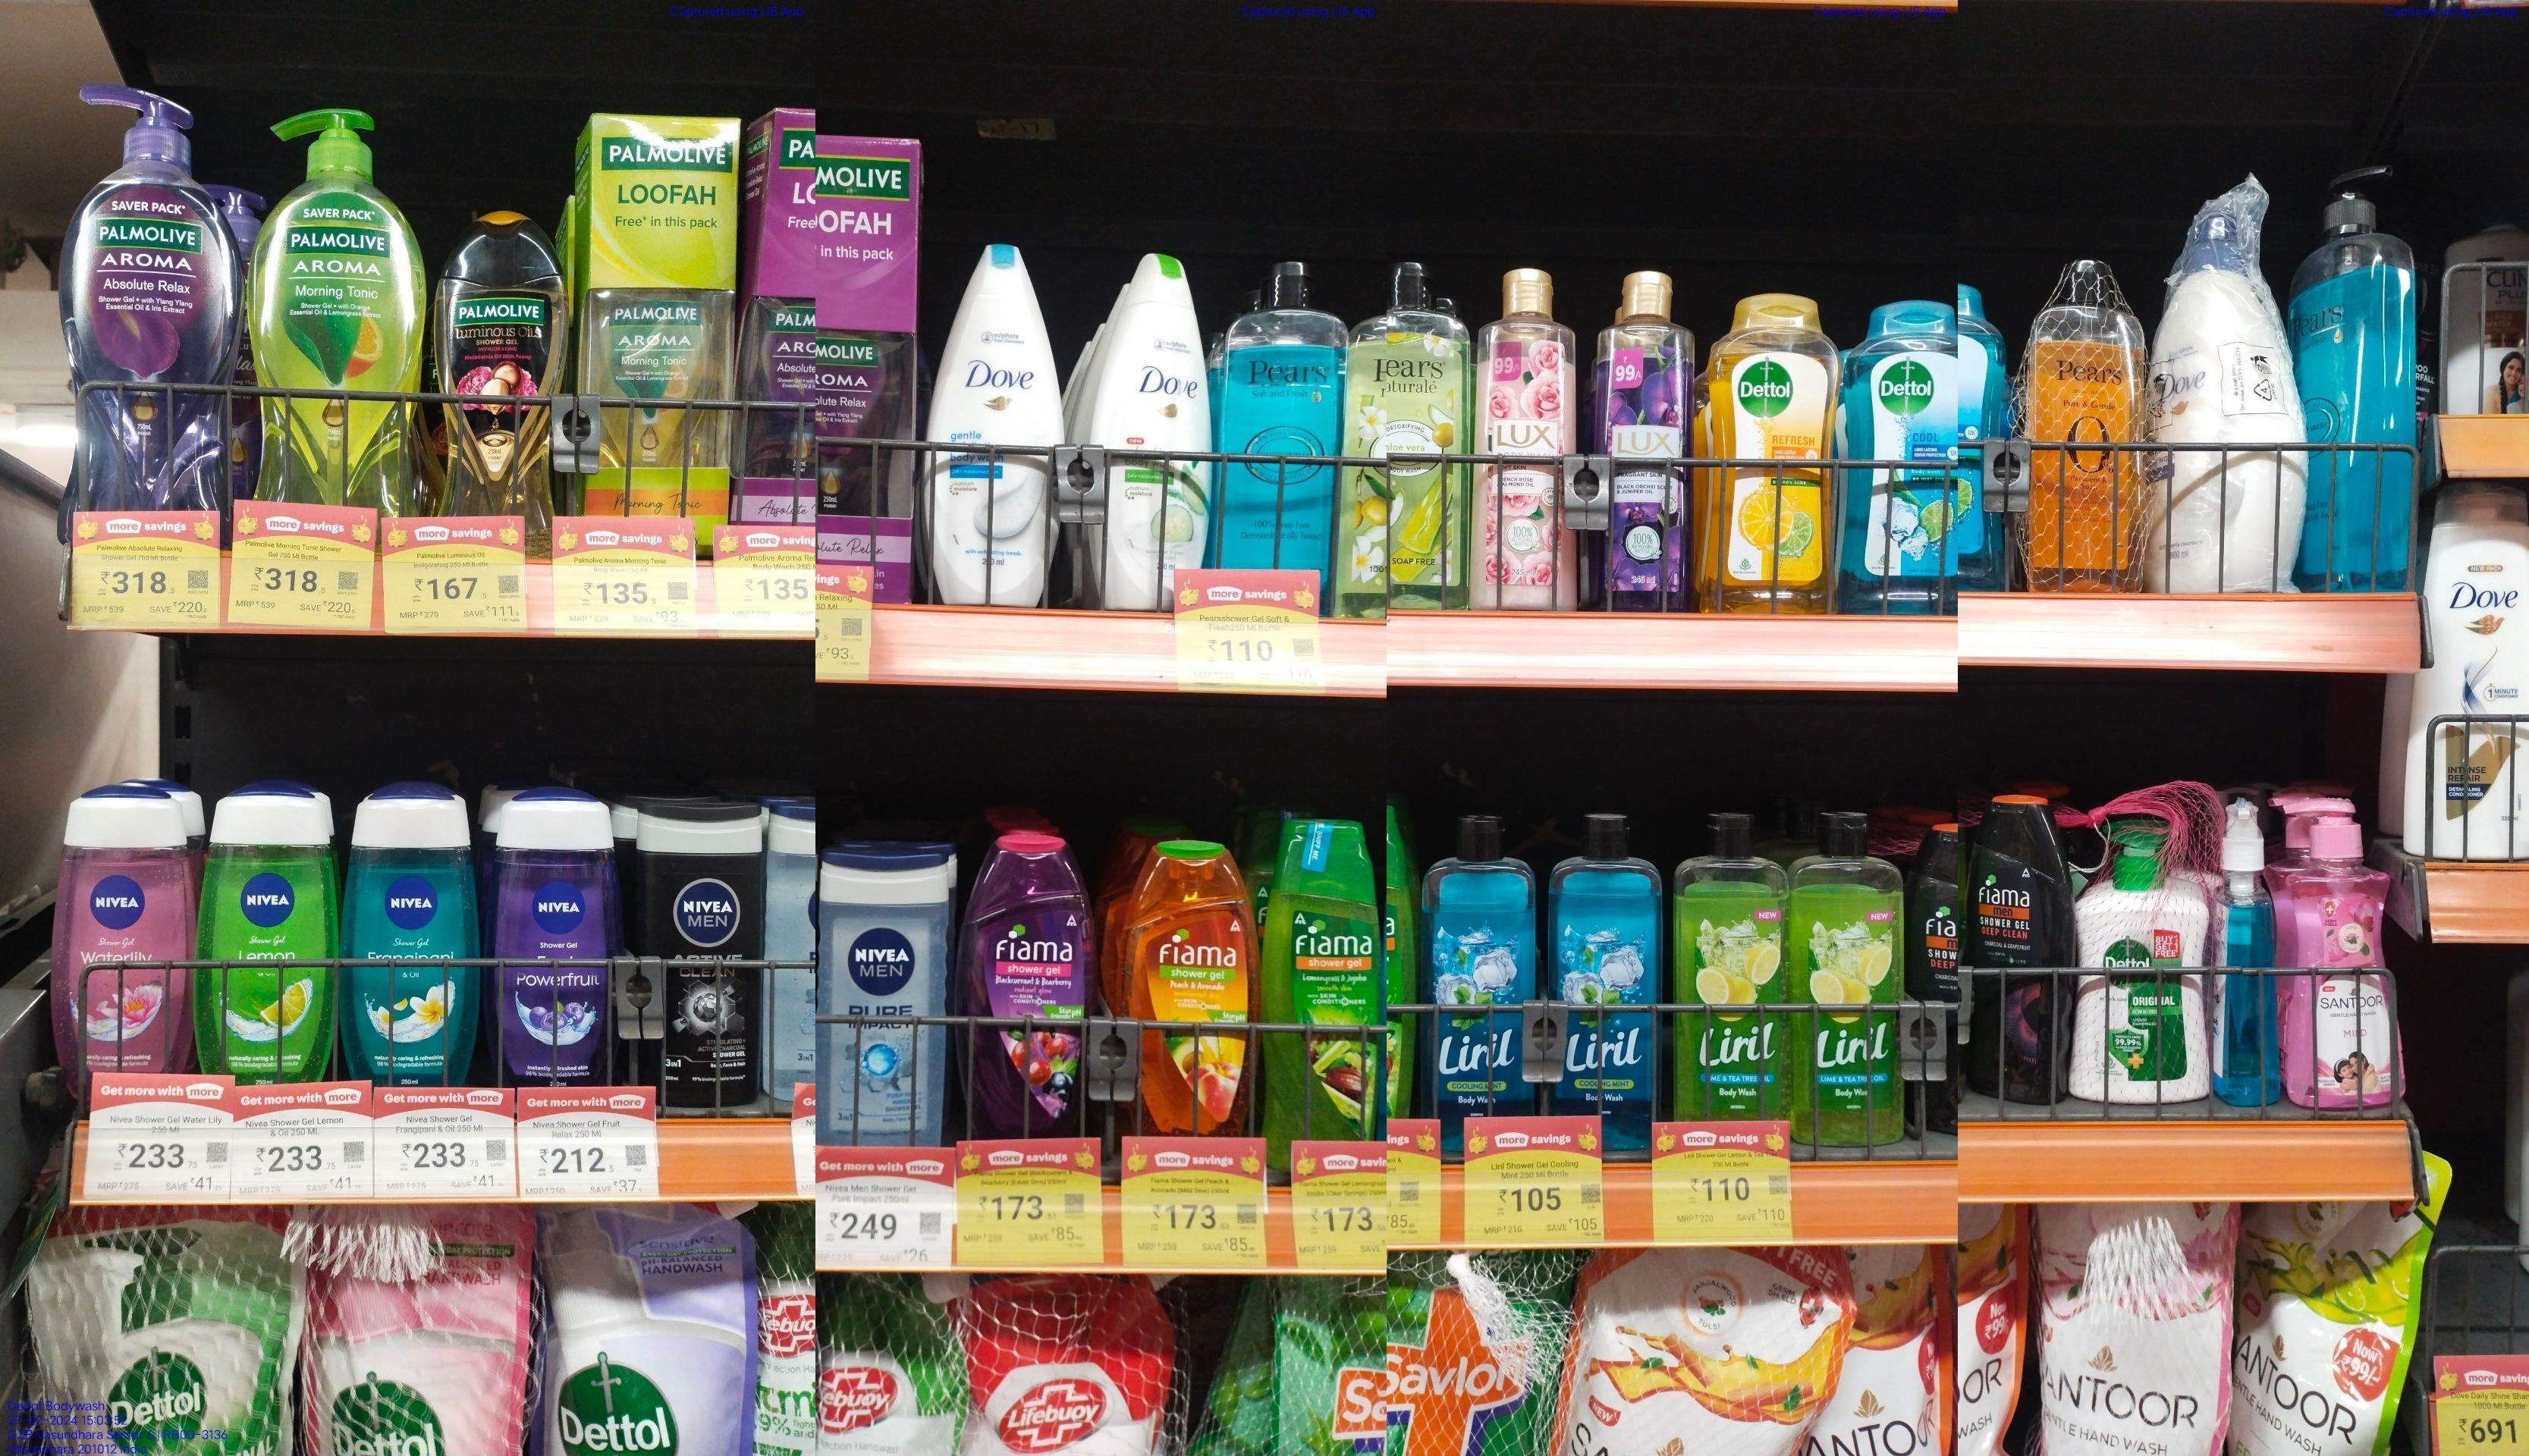Dettol_Bodywash_Cool: (1848, 297, 1963, 620)
Dettol_Bodywash_Refresh: (1716, 288, 1834, 617)
Dove_Gentle_Exfoliating_Body_Wash_250ML: (936, 233, 1061, 610)
Dove_Refreshing_Body_Wash_250ML: (1112, 255, 1209, 622)
Fiama_Shower_Gel_Lemongrass_and_Jojoba_250ML: (1273, 824, 1386, 1161)
Fiama_Shower_Gel_Peach_and_Avocado_250ML: (1129, 841, 1251, 1148)
Liril_Cooling_Mint_Body_Wash_250ML: (1553, 817, 1666, 1176), (1423, 817, 1535, 1166)
Liril_Lime_and_Tea_Tree_Oil_Body_Wash_250ML: (1798, 804, 1905, 1150), (1680, 808, 1791, 1119)
Lux_Black_Orchid_Scent_and_Juniper_Oil_Body_Wash_245ML: (1596, 273, 1704, 620)
Nivea_Shower_Gel_Frangipani_and_Oil_250ML: (347, 784, 481, 1089)
Nivea_Shower_Gel_Fresh_Powerfruit_250ML: (493, 785, 606, 1105)
Nivea_Shower_Gel_Lemon_and_Oil_250ML: (201, 782, 337, 1091)
Nivea_Shower_Gel_Waterlily_and_Oil_250ML: (57, 782, 193, 1098)
Palmolive_Luminous_Oils_Invigorating_Macadamia_Oil_With_Peony_250ML: (434, 202, 563, 556)
Pears_Naturale_Aloe_Vera_Body_Wash_250ML: (1346, 266, 1464, 625)
Pears_Pure_Glycerin_and_Mint_Extracts_Body_Wash_250ML: (1226, 259, 1332, 610)
